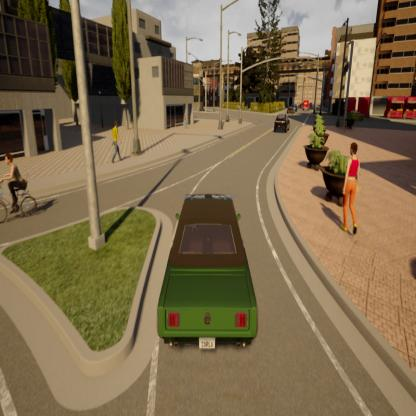Cars: (146, 179, 266, 361), (272, 111, 292, 135)
Pedestrian: (334, 136, 366, 248), (107, 116, 126, 166)
